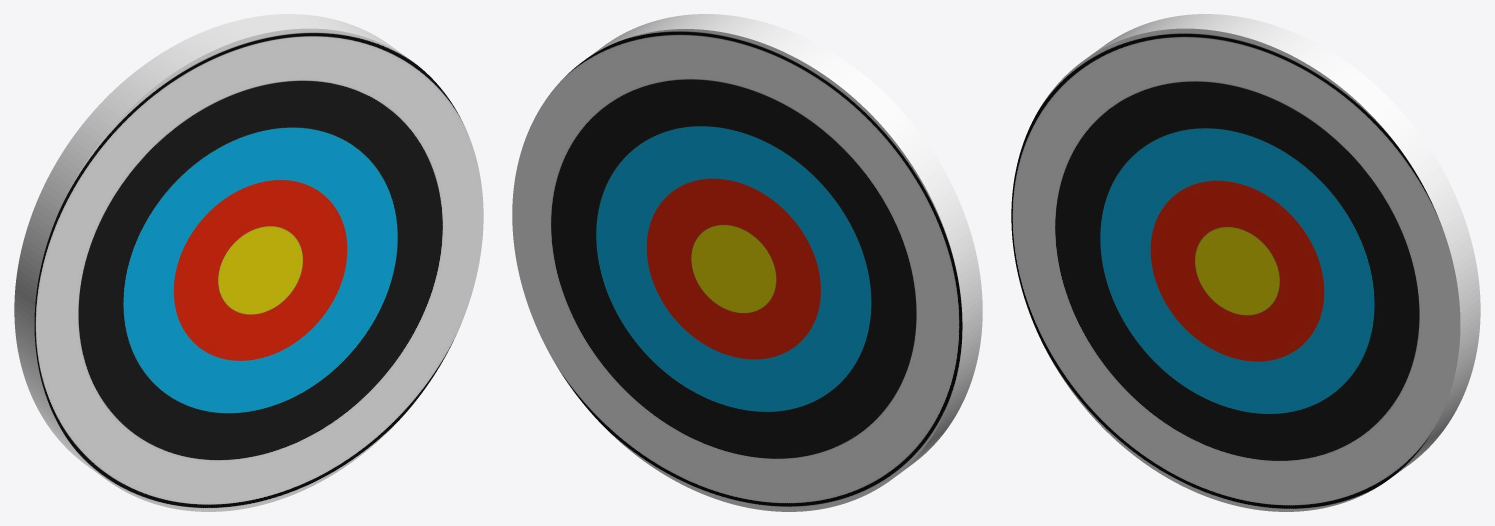
File: hedef.fbx
3 views of the same model, side by side, from view 1: azimuth 30°, elevation 25°; view 2: azimuth 150°, elevation 25°; view 3: azimuth 330°, elevation 25° (orthographic).
Visible parts, largest first — view 1: Cylinder; view 2: Cylinder; view 3: Cylinder.
Boxes of the visible parts, box(x1,y1,x2,y2) form: Cylinder: box(14, 14, 483, 511); Cylinder: box(512, 14, 982, 511); Cylinder: box(1011, 14, 1480, 511).
Size of the model in its own units: 1000 by 1001 by 82.21.
Materials: 1 (1 with a texture image).
